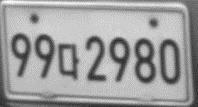0: (159, 38, 181, 84)
2: (84, 35, 107, 83)
8: (133, 37, 156, 84)
9: (107, 35, 131, 83), (33, 33, 56, 80), (10, 33, 32, 77)
다: (56, 42, 81, 80)
